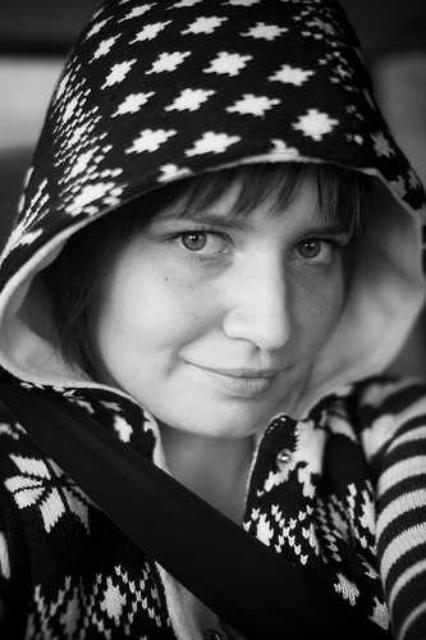SafeDriving: (150, 213, 246, 266), (272, 218, 353, 276)
Seatbelt: (9, 382, 400, 640)
